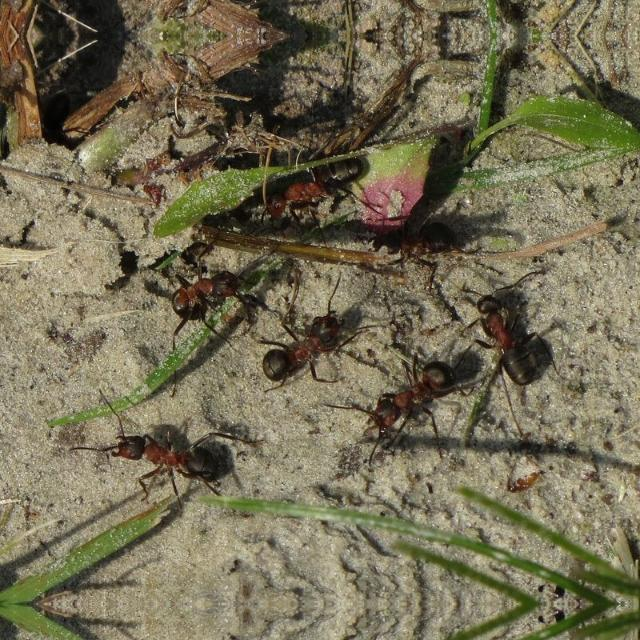Formica: (464, 269, 572, 401), (98, 405, 228, 511), (361, 338, 457, 438), (235, 152, 368, 224), (147, 264, 260, 348), (258, 304, 354, 400), (368, 202, 464, 276)
